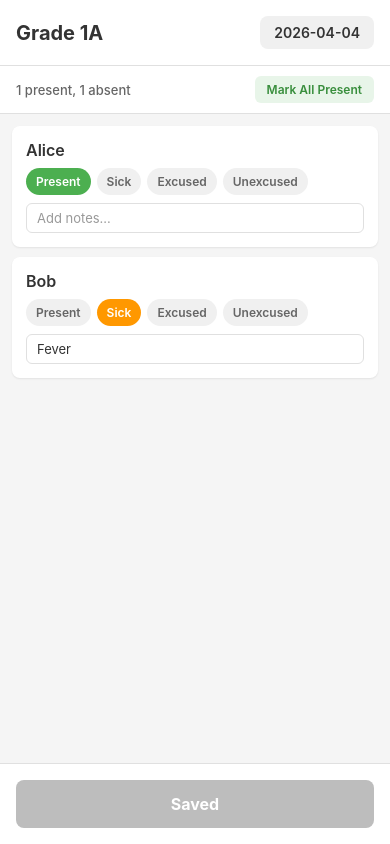
it: TeacherAttendanceScreen › mark all present sets all students to present
The width and height of the screenshot is (390, 844).
Click the element with test id "mark-all-present". click: click(314, 90)
box: [255,76,374,103]
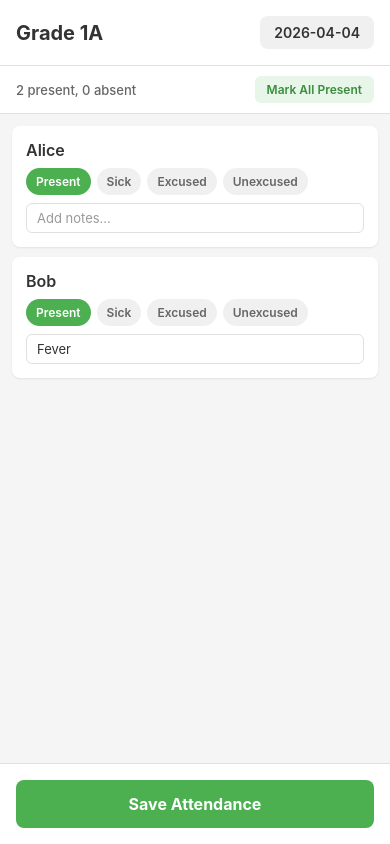
Result: the text with test id "attendance-summary" reads "2 present, 0 absent" at [16,82,136,98]
